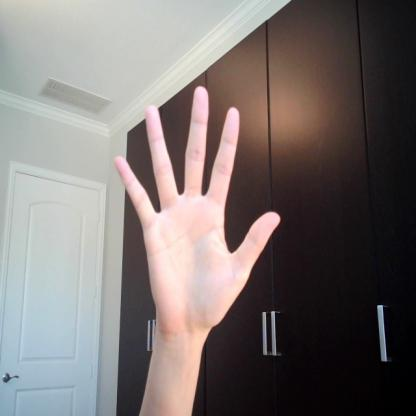five: (116, 85, 287, 339)
